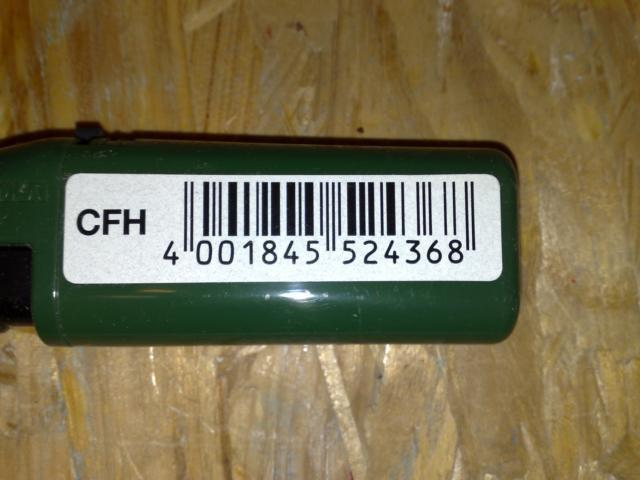Barcode: (147, 173, 504, 282)
